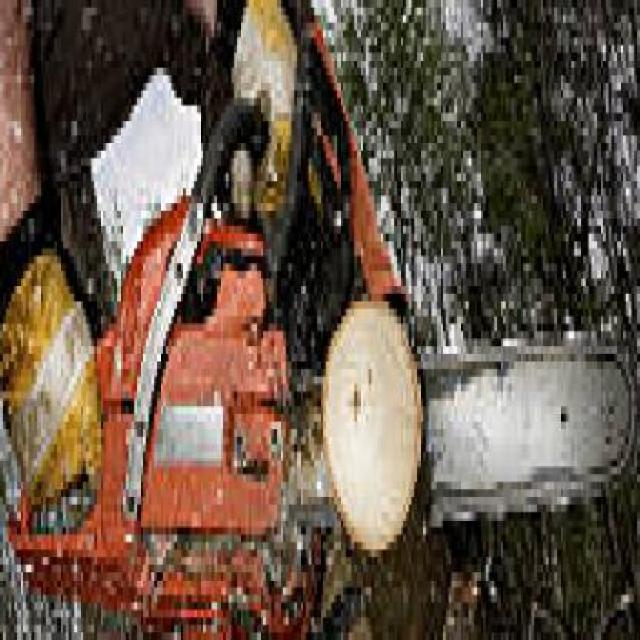Chainsaw: (3, 7, 640, 640)
